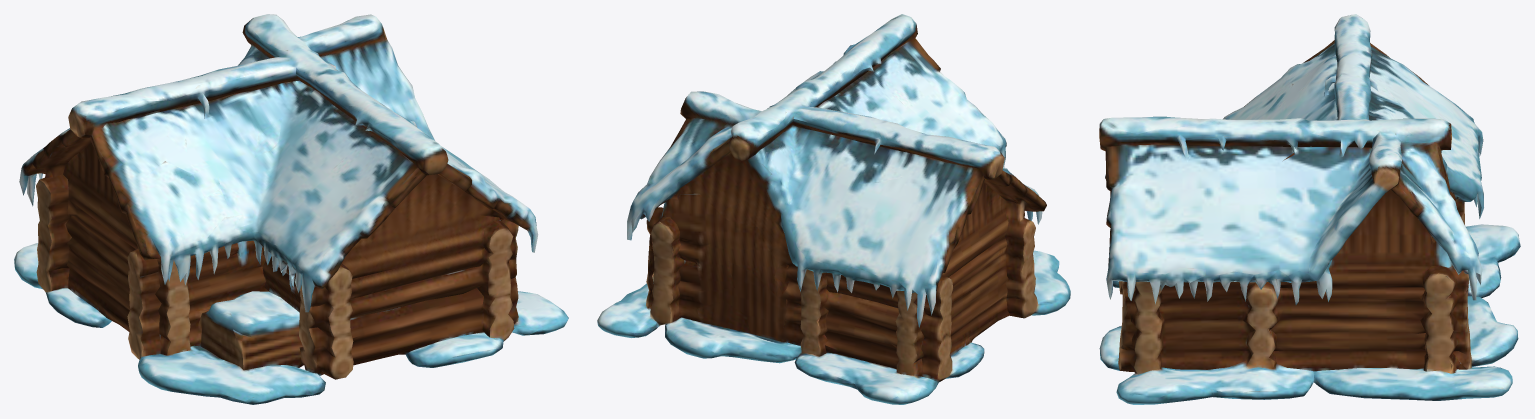
The model's file is village_snow_b.glb.
3 renders of one model, left to right at view 1: azimuth 30°, elevation 25°; view 2: azimuth 150°, elevation 25°; view 3: azimuth 270°, elevation 25°, orthographic. The views are drawn at different scales.
Parts seen in each view (by area): view 1: world; view 2: world; view 3: world.
Part boxes in pixels (x1,y1,x2,y2): world: (14,14,568,404); world: (597,14,1070,404); world: (1099,14,1520,404).
Size of the model in its own units: 1 by 0.5736 by 0.992.
1 material, 1 textured.
